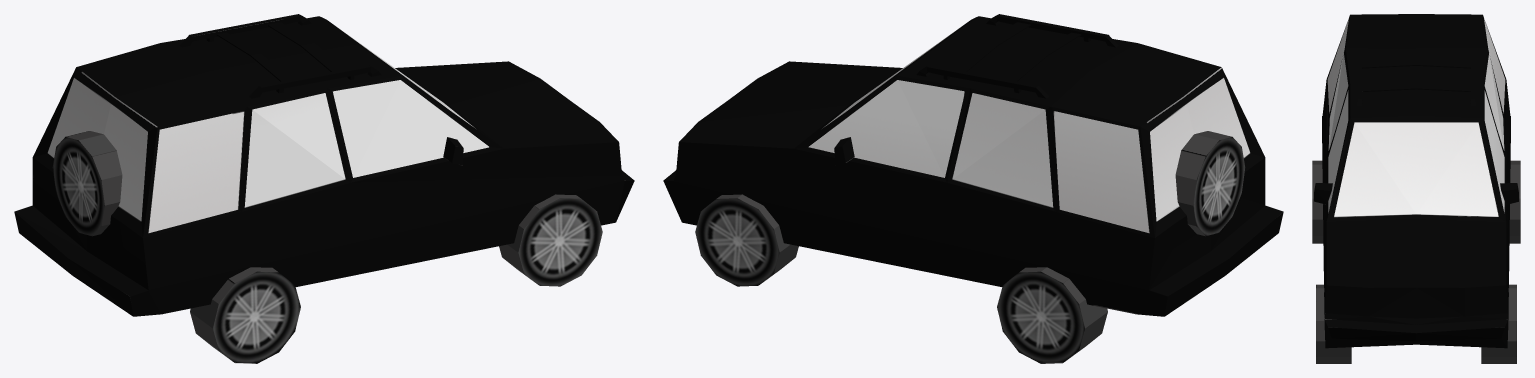
The model's file is car1.obj.
3 renders of one model, left to right at view 1: azimuth 30°, elevation 25°; view 2: azimuth 150°, elevation 25°; view 3: azimuth 270°, elevation 25°, orthographic. The views are drawn at different scales.
Visible parts, largest first — view 1: vehicleSUV_GEO_Cube.074; view 2: vehicleSUV_GEO_Cube.074; view 3: vehicleSUV_GEO_Cube.074.
Part boxes in pixels (x1,y1,x2,y2): vehicleSUV_GEO_Cube.074: (14, 14, 634, 363); vehicleSUV_GEO_Cube.074: (663, 14, 1283, 363); vehicleSUV_GEO_Cube.074: (1312, 14, 1520, 363).
Bounding box in the file's own units: 0.3007 × 0.1372 × 0.128.
1 material, 1 textured.
